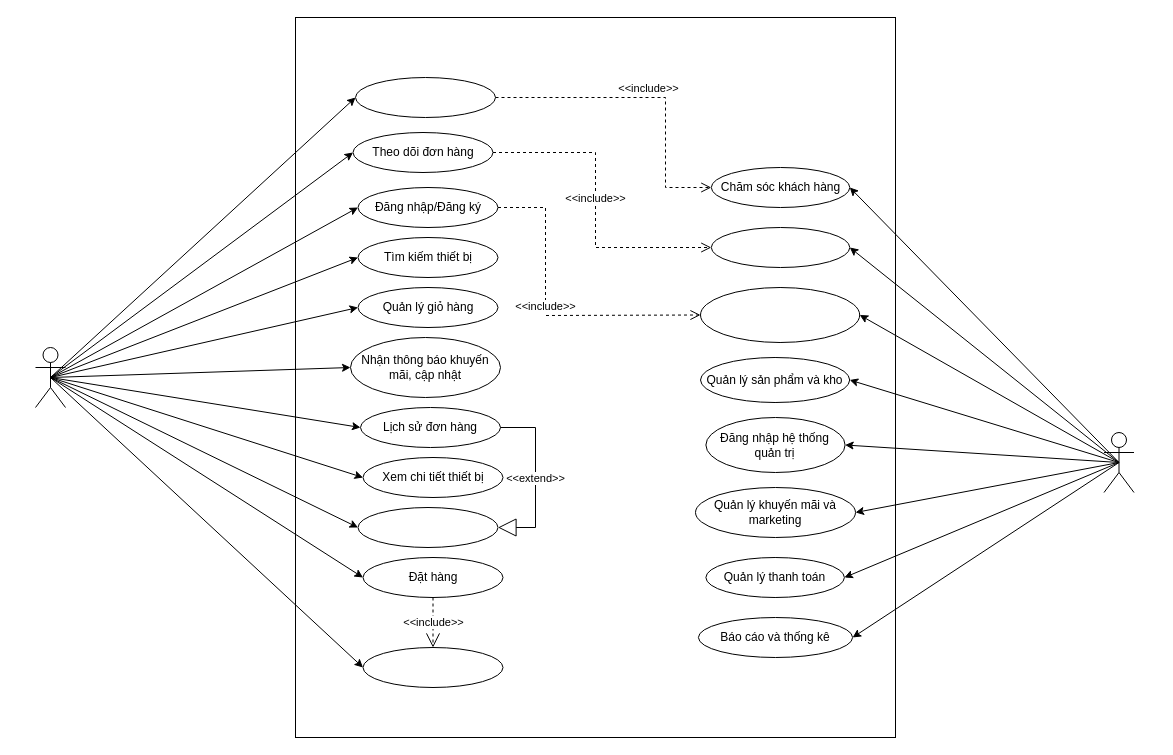
The diagram is 1173 pixels wide and 755 high, and some of its shapes have lost their labels. Here are the shapes that lost their labels. From the top down, the centre of each, then its label:
At point 425,97: "Yêu cầu hỗ trợ".
At point 780,247: "Quản lý đơn hàng".
At point 780,314: "Quản lý người dùng và tài khoản".
At point 50,377: "Khách Hàng".
At point 1118,462: "Quản Trị VIên".
At point 427,527: "Đánh giá".
At point 432,667: "Thanh toán".
